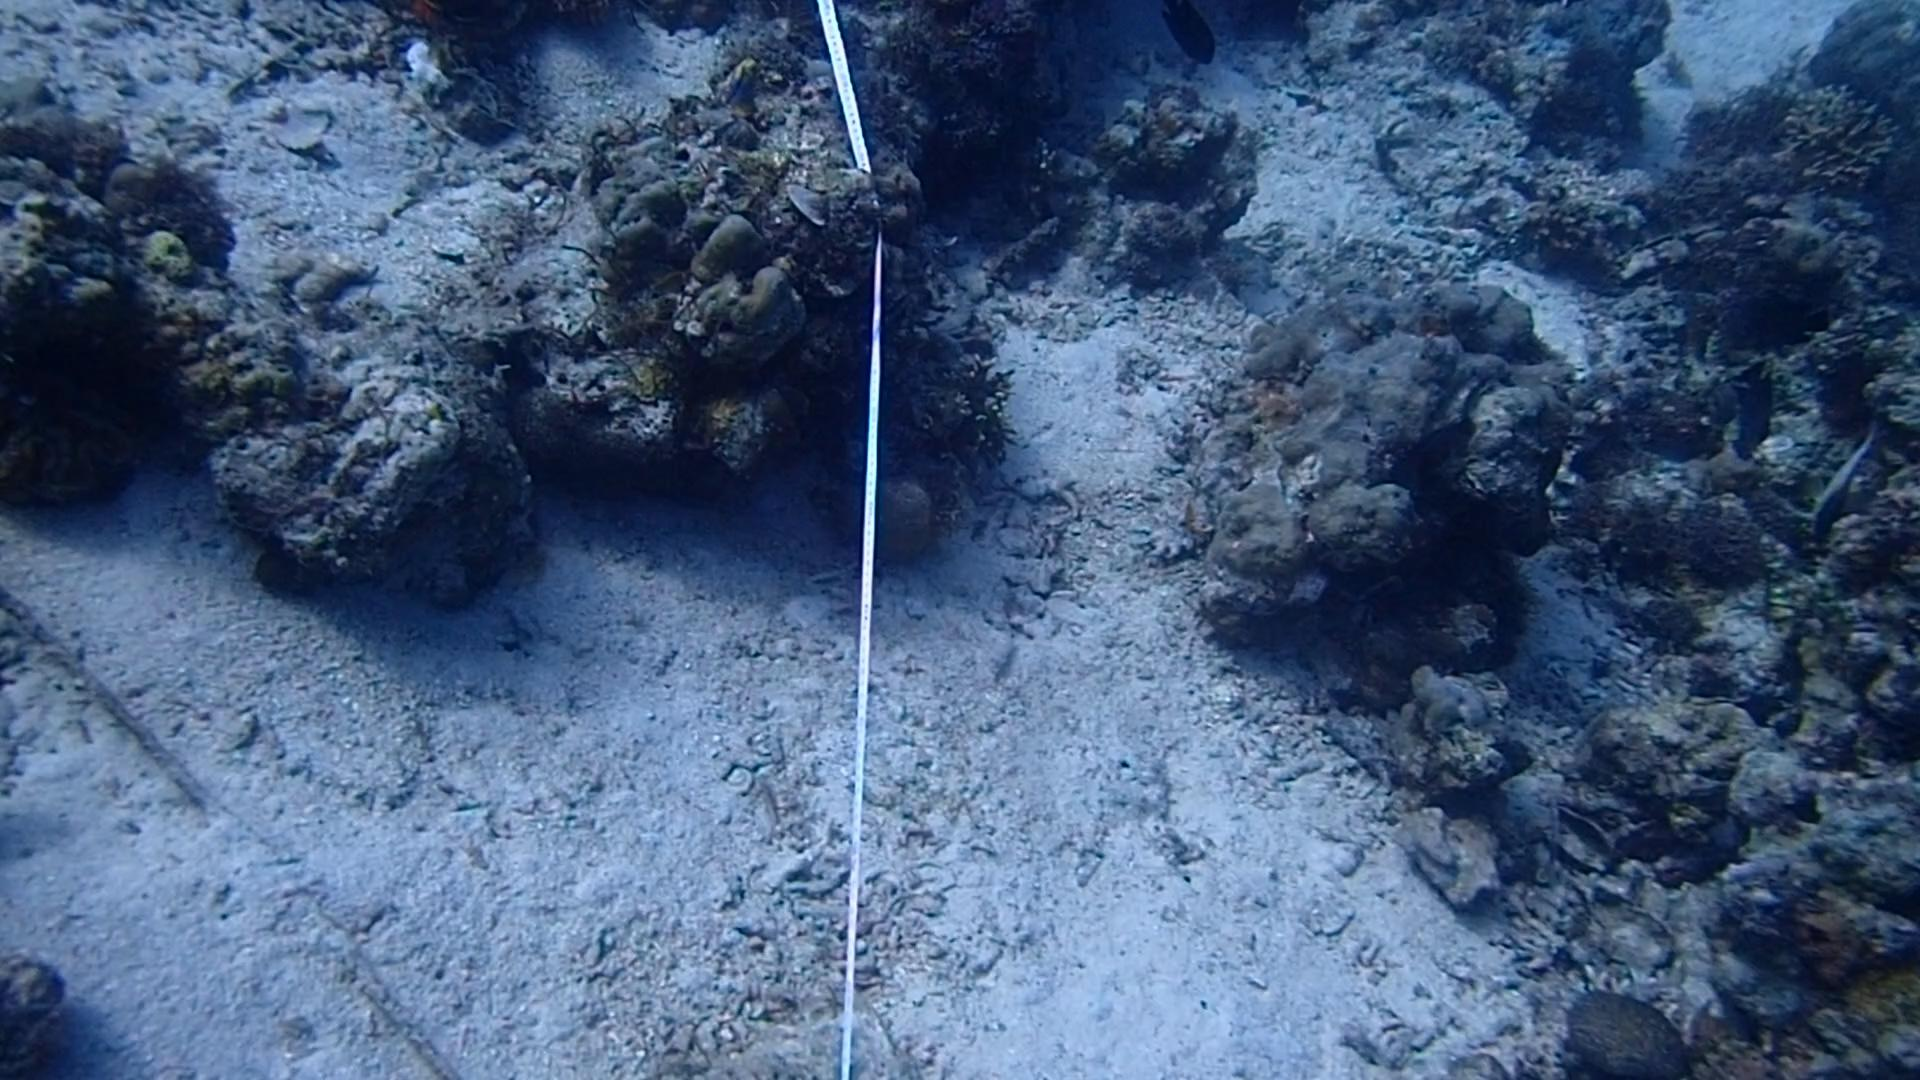Dark Fish: (1727, 290, 1822, 359), (1153, 0, 1228, 70), (1737, 361, 1783, 446)
